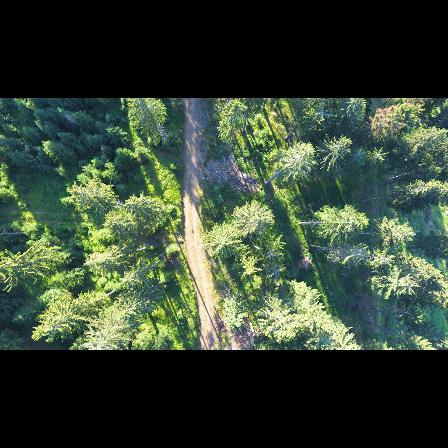Sick: (351, 145, 369, 163)
